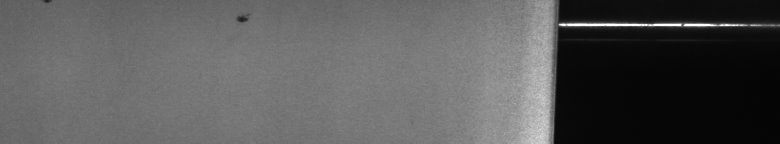fi: (232, 8, 252, 32)
